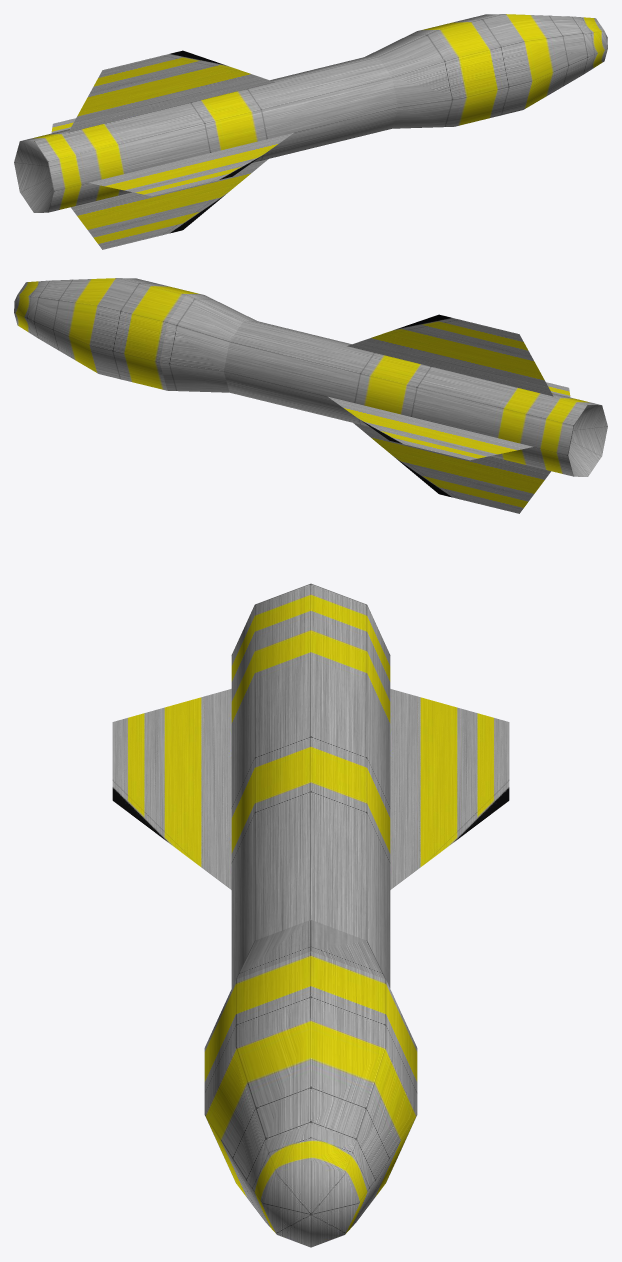
File: forma.obj
3 renders of one model, top to bottom at view 1: azimuth 30°, elevation 25°; view 2: azimuth 150°, elevation 25°; view 3: azimuth 270°, elevation 25°, orthographic. The views are drawn at different scales.
Visible parts, largest first — view 1: object; view 2: object; view 3: object.
Boxes of the visible parts, box(x1,y1,x2,y2) form: object: box(14, 14, 607, 249); object: box(14, 278, 607, 513); object: box(112, 583, 509, 1247).
Bounding box in the file's own units: 50 × 14.97 × 14.97.
Materials: 1 (1 with a texture image).
